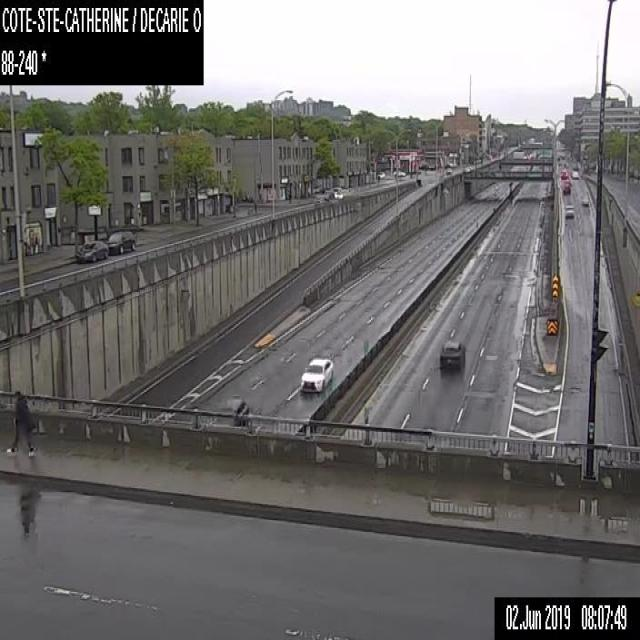pedestrian: (8, 391, 35, 456), (376, 172, 381, 183)
vehicle: (300, 357, 333, 393), (213, 394, 249, 426), (439, 340, 465, 368), (75, 240, 108, 262), (105, 230, 135, 253), (562, 179, 571, 194), (564, 205, 574, 218), (334, 189, 344, 200), (393, 169, 405, 176), (580, 195, 588, 205), (571, 170, 578, 178), (376, 171, 385, 177), (445, 166, 451, 174), (560, 169, 566, 177)
